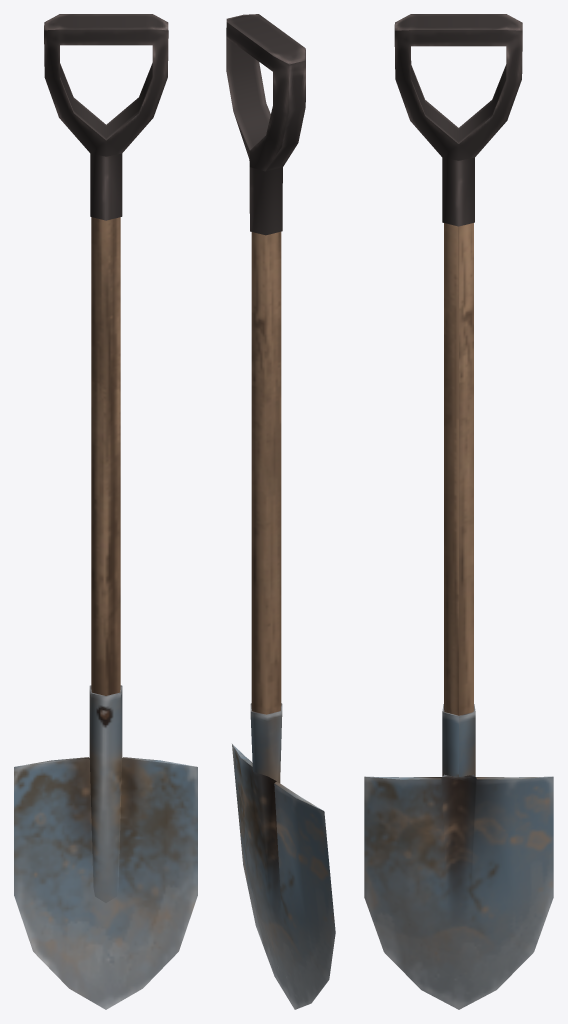
The model's file is ITEM_spade02.fbx.
The picture shows the model from 3 angles, left to right: view 1: azimuth 90°, elevation 25°; view 2: azimuth 210°, elevation 25°; view 3: azimuth 270°, elevation 25°; orthographic projection. The views are drawn at different scales.
Parts seen in each view (by area): view 1: ITEM_spade02; view 2: ITEM_spade02; view 3: ITEM_spade02.
Part boxes in pixels (<box>): ITEM_spade02: <box>14,14,197,1009</box>; ITEM_spade02: <box>226,14,335,1009</box>; ITEM_spade02: <box>364,14,553,1009</box>.
Bounding box in the file's own units: 6.01 × 125 × 21.32.
